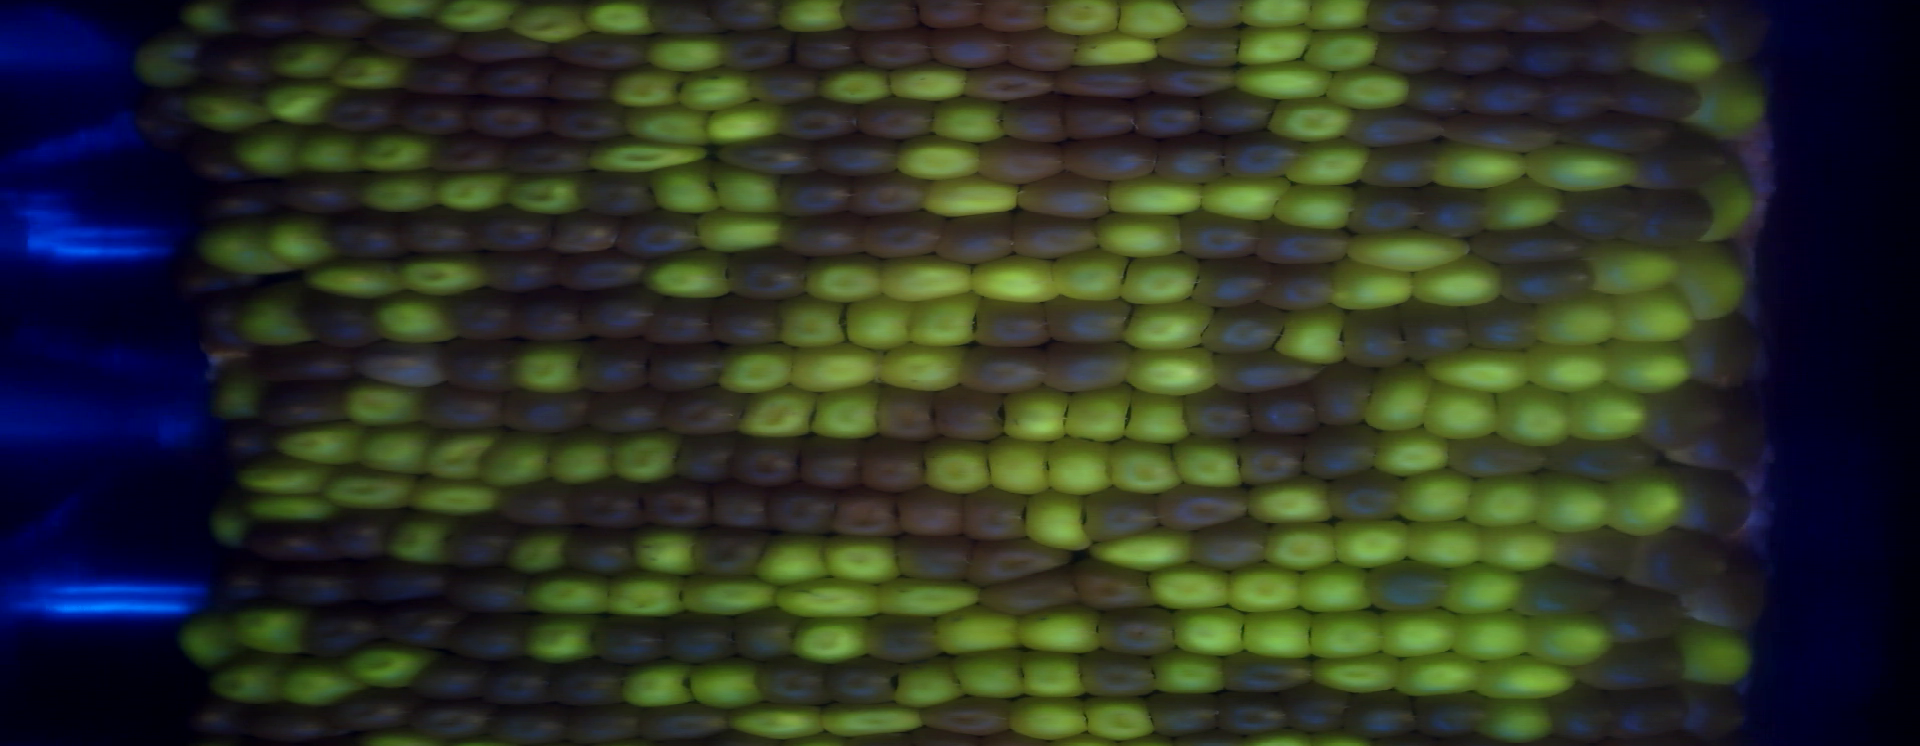fluorescent: (1678, 56, 1771, 140), (1598, 458, 1690, 541), (1520, 138, 1649, 197), (1668, 236, 1751, 325), (1576, 234, 1685, 299), (1693, 141, 1760, 246), (1423, 132, 1536, 194), (1422, 341, 1538, 399), (1670, 615, 1763, 688), (1489, 379, 1578, 454), (1526, 464, 1618, 538), (190, 216, 291, 282), (1524, 603, 1622, 671), (781, 337, 887, 401), (1630, 23, 1733, 88), (1085, 521, 1205, 576), (1607, 281, 1701, 350), (637, 244, 740, 307), (362, 287, 465, 350), (1417, 375, 1507, 446), (1021, 484, 1104, 561), (336, 635, 449, 691), (1116, 300, 1224, 359), (230, 443, 345, 499), (1476, 173, 1575, 236), (1100, 432, 1191, 501), (1269, 298, 1356, 370), (1117, 345, 1226, 403), (1111, 247, 1209, 311), (965, 247, 1063, 311), (1529, 285, 1624, 352), (1386, 647, 1496, 703), (1397, 511, 1494, 575), (582, 131, 710, 179), (1089, 208, 1198, 265), (318, 461, 427, 517), (298, 252, 414, 305), (873, 571, 992, 622), (231, 285, 317, 356), (770, 570, 891, 620), (338, 371, 433, 435), (1469, 514, 1565, 578), (676, 566, 786, 621), (1409, 251, 1509, 312), (1193, 168, 1298, 225), (400, 472, 516, 524), (1224, 56, 1342, 108), (171, 603, 252, 677), (350, 414, 440, 481), (473, 424, 562, 491), (1471, 650, 1582, 704), (1167, 428, 1251, 499), (1245, 469, 1343, 530), (520, 563, 624, 621), (1599, 337, 1701, 396), (813, 526, 909, 588), (1562, 379, 1658, 441), (1518, 336, 1618, 396), (871, 250, 978, 305), (1360, 355, 1434, 436), (1258, 513, 1348, 578), (1221, 556, 1311, 621), (1349, 225, 1479, 271), (934, 599, 1032, 659), (1322, 256, 1420, 316), (268, 414, 370, 472), (415, 421, 507, 485), (811, 695, 933, 742), (1140, 559, 1239, 617), (227, 598, 320, 660), (1439, 559, 1532, 621), (887, 132, 989, 189), (871, 339, 973, 396), (225, 118, 311, 185), (502, 337, 595, 398), (258, 207, 343, 274), (605, 421, 689, 489), (1259, 92, 1364, 146), (389, 249, 500, 300), (915, 432, 1000, 499), (1393, 464, 1484, 527), (838, 287, 918, 356), (749, 527, 838, 590), (732, 382, 822, 445), (1460, 468, 1549, 530), (1446, 605, 1536, 668), (276, 655, 372, 713), (784, 608, 878, 666), (707, 157, 793, 220), (620, 97, 718, 153), (1044, 245, 1136, 305), (803, 380, 887, 446), (1040, 432, 1123, 499), (1327, 511, 1417, 572), (1234, 604, 1320, 668), (1267, 179, 1364, 235), (1010, 601, 1107, 658), (176, 81, 271, 138), (692, 205, 795, 257), (200, 648, 291, 707), (1367, 419, 1458, 478), (1374, 604, 1466, 663), (1281, 134, 1376, 190), (125, 27, 203, 96), (516, 608, 605, 668), (980, 432, 1060, 499), (999, 691, 1098, 745), (640, 156, 724, 219), (800, 250, 888, 310), (1309, 648, 1414, 698), (1060, 383, 1140, 450), (1104, 171, 1211, 220), (253, 72, 340, 132), (683, 650, 767, 713), (381, 508, 464, 571), (600, 565, 694, 620), (1293, 560, 1381, 619), (700, 94, 792, 151), (949, 644, 1033, 706), (544, 425, 623, 490), (348, 125, 443, 179), (771, 290, 852, 354), (1166, 601, 1251, 661), (902, 290, 986, 352), (920, 171, 1029, 218), (998, 383, 1078, 447), (354, 164, 444, 219), (629, 517, 708, 581), (264, 33, 361, 85), (709, 339, 793, 398), (1147, 644, 1236, 701), (725, 697, 831, 744), (497, 521, 580, 579), (615, 657, 699, 714), (1011, 646, 1092, 706), (1307, 606, 1392, 663), (1474, 690, 1560, 746), (1067, 24, 1164, 73), (1116, 385, 1194, 446), (1229, 17, 1316, 72), (498, 168, 589, 220), (926, 94, 1011, 149), (1075, 691, 1164, 744), (235, 488, 355, 527), (430, 167, 523, 217), (290, 122, 371, 180), (500, 1, 596, 49), (883, 58, 977, 107), (889, 655, 969, 713), (673, 64, 759, 116), (811, 59, 901, 108), (322, 50, 418, 96), (642, 29, 731, 77), (607, 62, 684, 116), (208, 359, 266, 429), (429, 1, 533, 39), (576, 1, 669, 40), (198, 492, 258, 552), (1109, 1, 1191, 42), (1037, 1, 1120, 40), (1231, 1, 1325, 36), (170, 1, 242, 45), (767, 1, 853, 37), (358, 1, 448, 26)
nonfluorescent: (1665, 380, 1776, 477), (1680, 540, 1778, 635), (1571, 635, 1695, 703), (1620, 523, 1734, 597), (1620, 122, 1731, 197), (1635, 376, 1734, 457), (1620, 183, 1724, 257), (1682, 306, 1764, 398), (1669, 458, 1758, 541), (160, 234, 264, 305), (1511, 559, 1622, 625), (1589, 575, 1685, 650), (1543, 426, 1660, 488), (289, 284, 392, 354), (252, 334, 371, 394), (962, 532, 1079, 593), (1033, 336, 1142, 401), (1206, 345, 1330, 401), (1442, 423, 1551, 485), (431, 333, 528, 402), (966, 290, 1067, 355), (1464, 220, 1594, 271), (256, 555, 369, 612), (436, 503, 527, 575), (1662, 675, 1752, 746), (571, 330, 662, 399), (348, 334, 454, 394), (1182, 510, 1276, 577), (1249, 213, 1362, 269), (1489, 255, 1609, 307), (1545, 523, 1644, 587), (190, 24, 277, 97), (973, 563, 1085, 620), (1340, 100, 1458, 153), (1551, 183, 1649, 246), (333, 552, 454, 604), (1600, 680, 1695, 746), (490, 382, 600, 439), (249, 375, 356, 432), (238, 692, 353, 746), (315, 501, 410, 566), (606, 206, 711, 265), (503, 284, 598, 349), (653, 608, 748, 671), (953, 338, 1052, 399), (235, 513, 343, 570), (769, 208, 874, 266), (1038, 292, 1141, 350), (720, 425, 809, 492), (851, 428, 934, 500), (544, 243, 653, 298), (713, 127, 819, 184), (1011, 170, 1118, 227), (1438, 111, 1570, 157), (1153, 477, 1255, 535), (394, 691, 507, 744), (969, 132, 1071, 190), (415, 379, 518, 436), (1335, 303, 1418, 374), (576, 279, 660, 349), (1092, 598, 1183, 663), (1392, 296, 1479, 364), (1004, 205, 1106, 262), (486, 473, 582, 534), (1560, 111, 1682, 159), (1537, 682, 1632, 744), (564, 470, 653, 537), (1360, 556, 1460, 615), (1176, 203, 1269, 266), (929, 209, 1022, 272), (853, 608, 950, 668), (1696, 1, 1782, 69), (296, 605, 394, 664), (748, 650, 835, 717), (579, 382, 675, 442), (1078, 483, 1166, 548), (201, 545, 284, 614), (273, 167, 378, 220), (1298, 423, 1389, 485), (369, 599, 469, 655), (791, 429, 873, 497), (1071, 555, 1160, 619), (447, 20, 558, 70), (927, 381, 1011, 447), (702, 292, 791, 354), (720, 243, 811, 304), (916, 690, 1021, 742), (465, 202, 560, 261), (658, 380, 752, 439), (571, 164, 662, 224), (389, 201, 479, 262), (442, 562, 535, 621), (1453, 65, 1547, 124), (544, 27, 658, 75), (447, 606, 541, 664), (1340, 181, 1434, 239), (1404, 685, 1499, 742), (327, 680, 427, 734), (889, 530, 981, 589), (470, 246, 566, 303), (1231, 428, 1315, 491), (955, 481, 1040, 545), (1463, 293, 1548, 356), (1305, 360, 1385, 428), (1529, 73, 1622, 131), (1333, 686, 1427, 744), (496, 129, 600, 180), (1063, 134, 1164, 186), (1179, 382, 1261, 447), (820, 650, 907, 712), (869, 381, 945, 451), (1217, 647, 1322, 697), (638, 292, 727, 350), (1411, 181, 1496, 243), (1053, 92, 1146, 148), (1196, 301, 1296, 354), (362, 13, 469, 62), (173, 130, 260, 190), (638, 341, 729, 398), (1499, 27, 1589, 85), (1242, 380, 1325, 442), (587, 610, 670, 673), (1147, 132, 1236, 191), (1272, 680, 1360, 739), (726, 601, 804, 668), (855, 208, 947, 265), (1356, 138, 1447, 195), (460, 92, 556, 146), (762, 478, 842, 541), (1256, 258, 1346, 316), (320, 206, 405, 266), (438, 283, 520, 345), (1321, 469, 1408, 528), (1220, 127, 1310, 184), (1074, 646, 1162, 703), (1209, 685, 1293, 745), (540, 91, 629, 147), (1140, 687, 1229, 744), (888, 481, 971, 541), (809, 132, 909, 183), (185, 288, 258, 355), (853, 91, 943, 146), (1610, 70, 1700, 125), (1189, 254, 1271, 314), (558, 522, 640, 582), (840, 169, 938, 219), (396, 51, 489, 104), (478, 653, 561, 712), (1589, 1, 1714, 40), (119, 111, 209, 165), (1144, 55, 1243, 104), (771, 167, 860, 222), (828, 484, 909, 544), (958, 58, 1062, 104), (547, 654, 633, 710), (673, 428, 751, 490), (402, 652, 491, 706), (636, 472, 714, 533), (998, 91, 1078, 151), (687, 524, 768, 583), (702, 478, 778, 540), (1152, 20, 1247, 70), (770, 94, 864, 145), (320, 86, 409, 138), (1048, 60, 1161, 102), (185, 176, 283, 224), (478, 701, 580, 746), (1195, 85, 1283, 137), (716, 23, 800, 78), (631, 701, 737, 744), (1128, 89, 1211, 143), (544, 205, 623, 261), (846, 23, 933, 75), (291, 1, 389, 47), (228, 1, 316, 51), (999, 24, 1085, 76), (1369, 24, 1449, 80), (553, 699, 653, 744), (467, 55, 553, 105), (924, 24, 1018, 71), (429, 127, 512, 179), (1498, 1, 1609, 39), (129, 81, 209, 132), (539, 61, 623, 109), (1400, 66, 1468, 125), (1439, 28, 1513, 82), (1429, 1, 1528, 42), (789, 22, 864, 75), (1570, 21, 1637, 80), (394, 92, 473, 142), (211, 414, 280, 470), (189, 688, 260, 744), (747, 60, 823, 111), (833, 1, 931, 38), (1357, 1, 1452, 38), (643, 1, 729, 42), (973, 1, 1059, 39), (700, 1, 782, 39), (1167, 1, 1258, 34), (907, 1, 989, 34)
